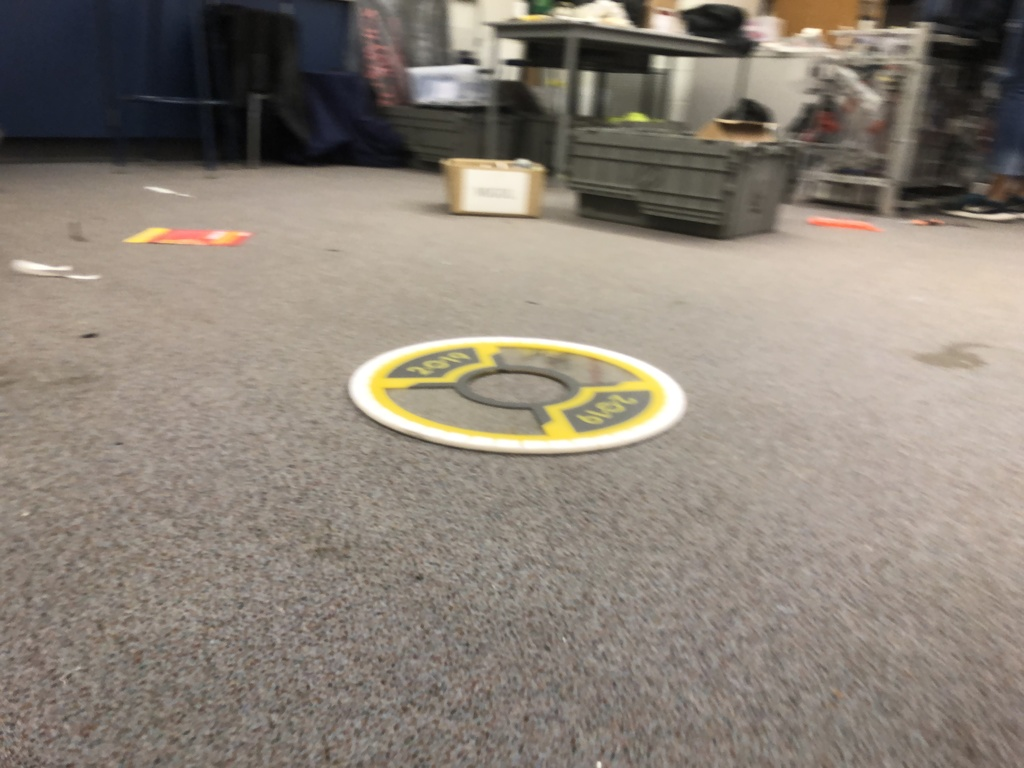hatch_panel: (336, 322, 697, 460)
